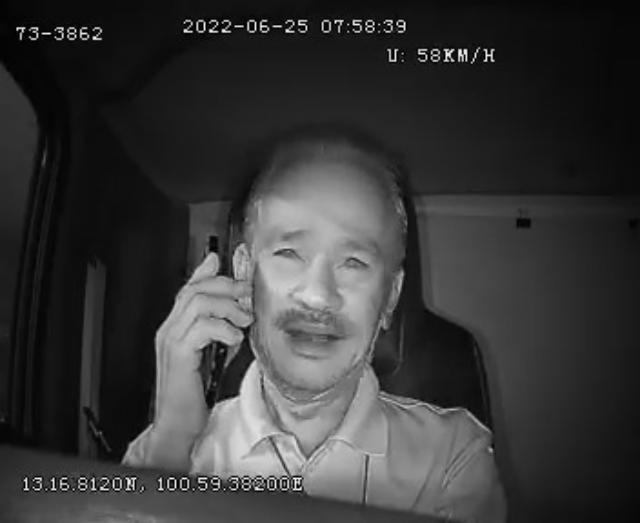PhoneUse: (190, 227, 232, 411)
SafeDriving: (331, 243, 376, 280), (266, 232, 310, 269)
